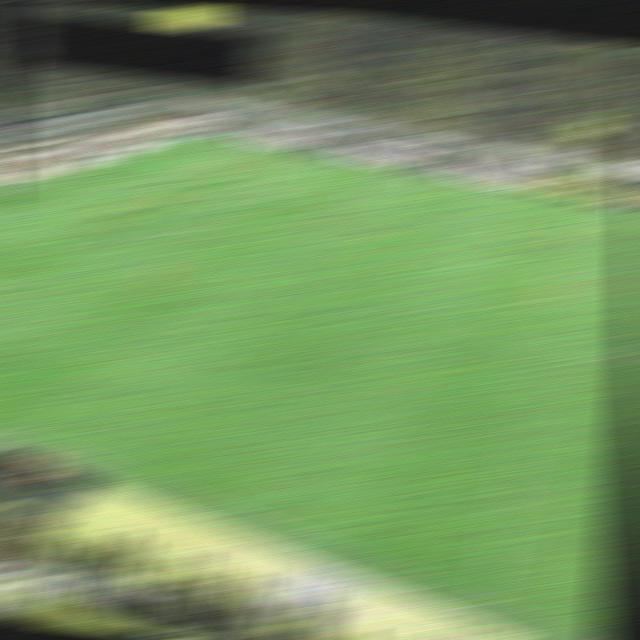bigarea_bottom_inner: (4, 279, 38, 293)
bigarea_top_inner: (244, 170, 275, 181)
bigarea_top_outter: (129, 147, 160, 158)
bottom_arc_area_intersection: (112, 232, 143, 243)
corner: (184, 132, 215, 143)
halfcircle_bottom: (523, 338, 564, 356)
halfcircle_top: (542, 258, 580, 275)
midline_bottom_intersection: (463, 594, 506, 615)
midline_top_intersection: (561, 198, 592, 208)
smallarea_bottom_inner: (0, 211, 29, 226)
smallarea_top_inner: (116, 172, 147, 183)
smallarea_top_outter: (76, 163, 106, 173)
top_arc_area_intersection: (195, 194, 225, 204)
